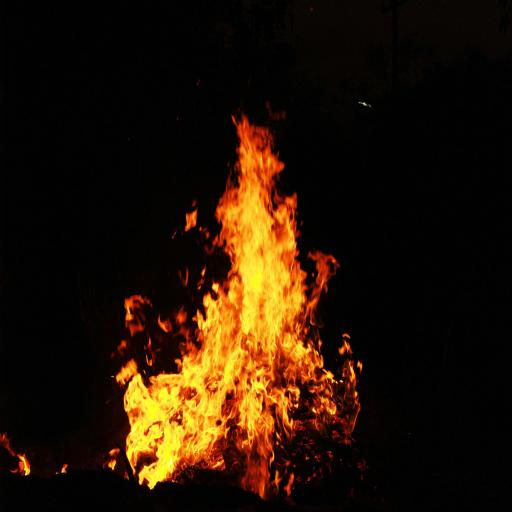campfire: (40, 85, 412, 512)
